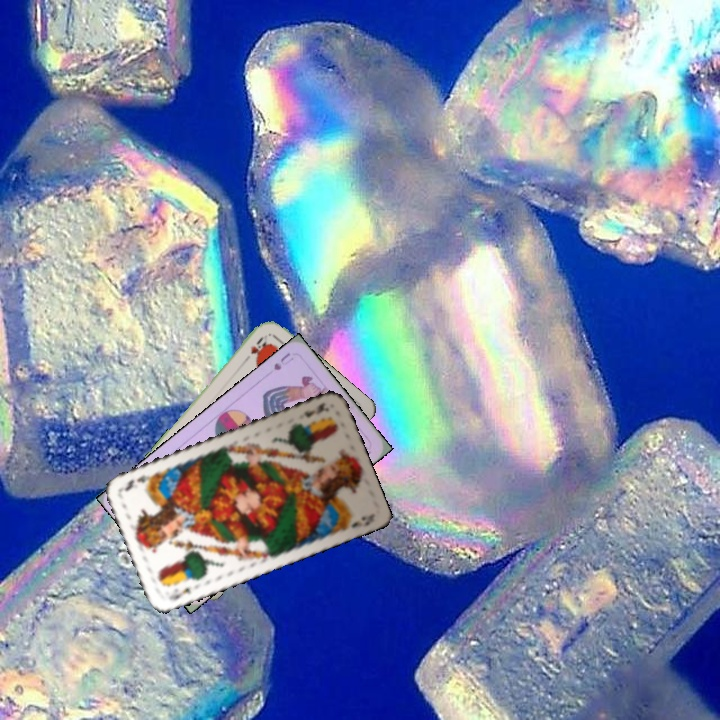EK: (299, 398, 331, 420), (165, 584, 194, 603)
HO: (240, 333, 269, 365)
SU: (269, 349, 296, 373)
